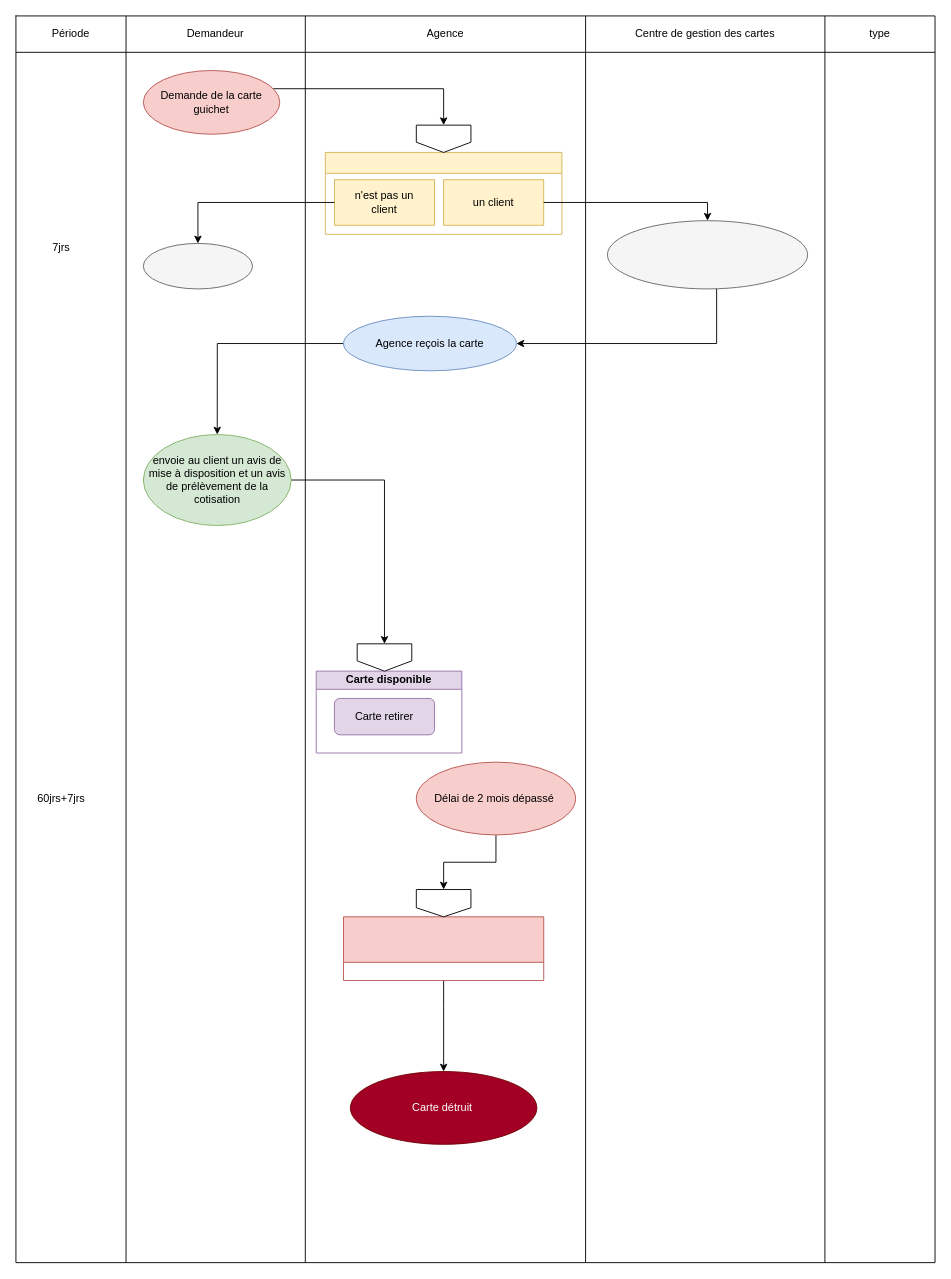
Some shapes in this 951 by 1279 pixel diagram are drawn without their labels. Here are the shapes that lost their labels. From the top down, the box of each, then its label:
(324, 152, 562, 234): Verification si le demandeur est un client
(142, 243, 253, 289): Refus
(607, 220, 808, 289): Demander au centre des gestions des cartes de préparé la carte du client
(343, 916, 544, 981): Destruction de carte
